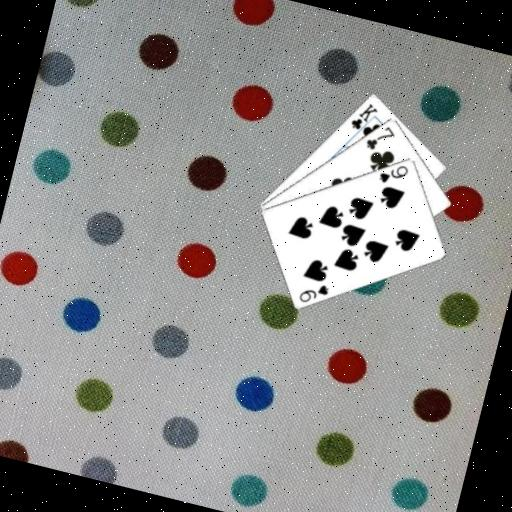7C: (362, 119, 399, 156)
9S: (375, 157, 412, 189), (295, 277, 332, 309)
KC: (345, 97, 381, 141)
